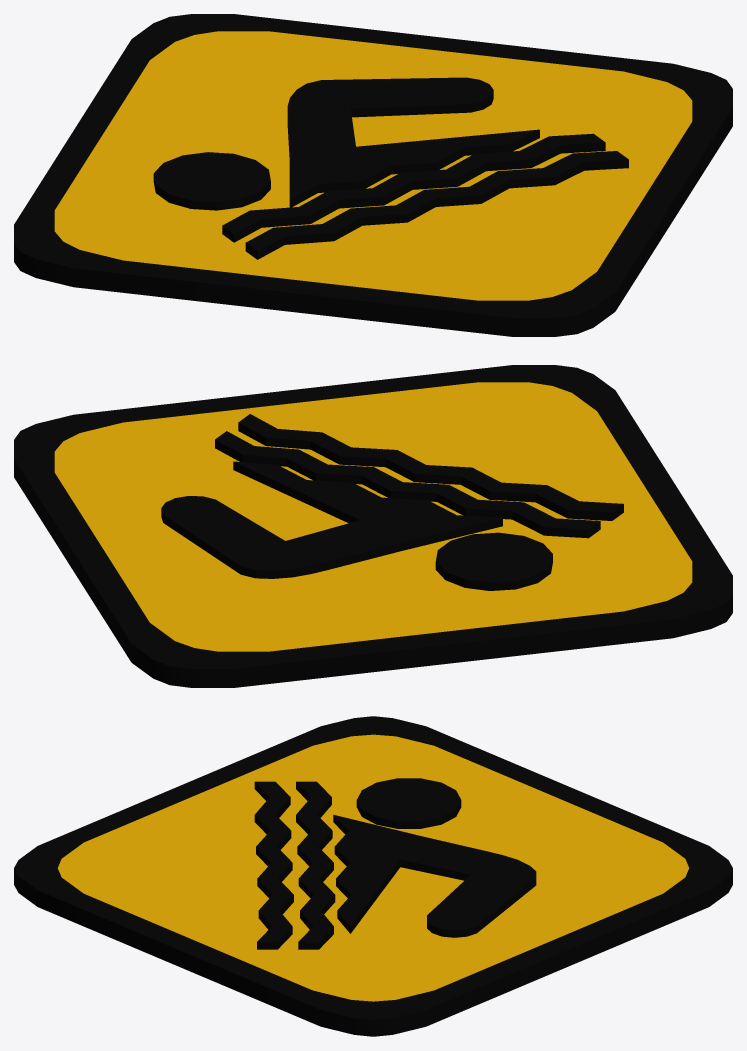
File: swimSign.fbx
3 views of the same model, one above another, from view 1: azimuth 30°, elevation 25°; view 2: azimuth 150°, elevation 25°; view 3: azimuth 270°, elevation 25° (orthographic). The views are drawn at different scales.
Visible parts, largest first — view 1: Plane.006; view 2: Plane.006; view 3: Plane.006.
Part boxes in pixels (x1,y1,x2,y2): Plane.006: (14, 14, 732, 336); Plane.006: (14, 365, 732, 687); Plane.006: (14, 716, 732, 1036).
Size of the model in its own units: 1.91 by 0.0714 by 1.91.
